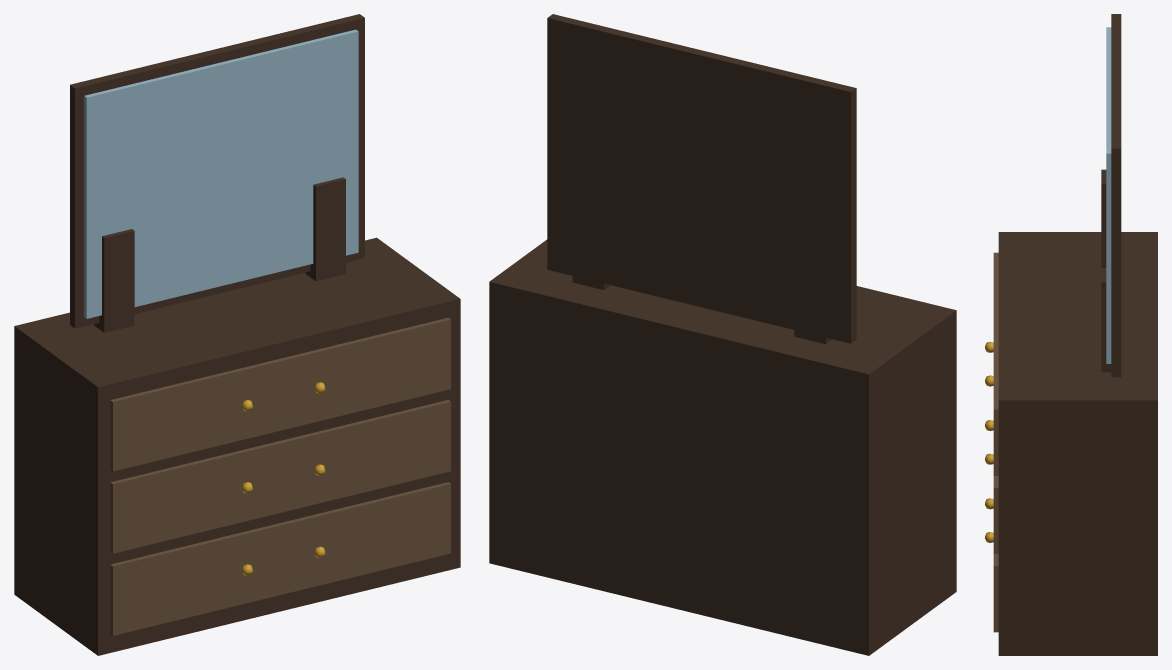
File: Dresser.obj
3 renders of one model, left to right at view 1: azimuth 30°, elevation 25°; view 2: azimuth 150°, elevation 25°; view 3: azimuth 270°, elevation 25°, orthographic. The views are drawn at different scales.
Parts seen in each view (by area): view 1: Dresser; view 2: Dresser; view 3: Dresser.
Boxes of the visible parts, x1,y1,x2,y2 form: Dresser: [14, 14, 460, 655]; Dresser: [489, 14, 956, 655]; Dresser: [985, 14, 1157, 655].
Bounding box in the file's own units: 1.2 × 1.63 × 0.5206.
